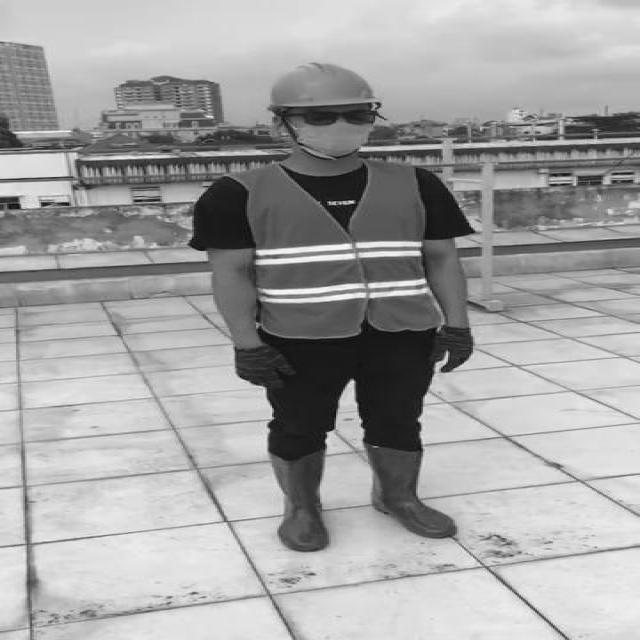boots: (364, 440, 458, 538), (265, 449, 334, 551)
face_mask: (285, 106, 383, 156)
glasses: (294, 106, 382, 130)
hand_glove: (231, 346, 295, 389), (428, 326, 476, 373)
head_helmet: (262, 56, 388, 111)
person: (186, 52, 486, 554)
vest: (244, 162, 434, 339)
